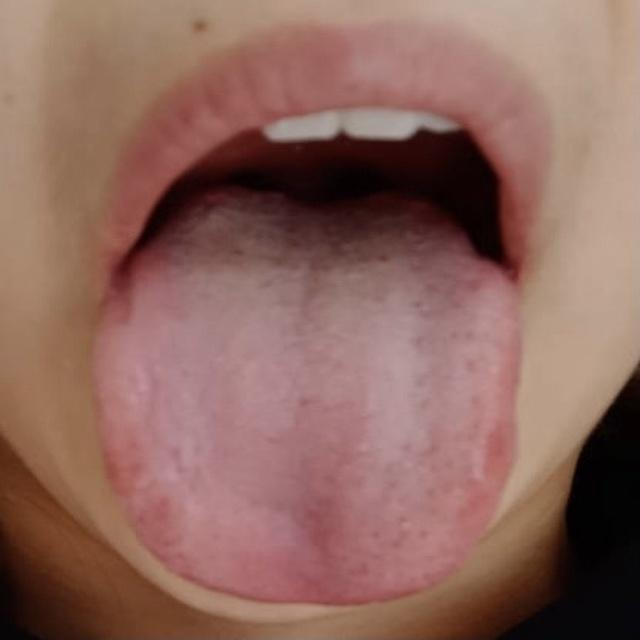baitaishe: (90, 254, 521, 605), (90, 253, 521, 604)
